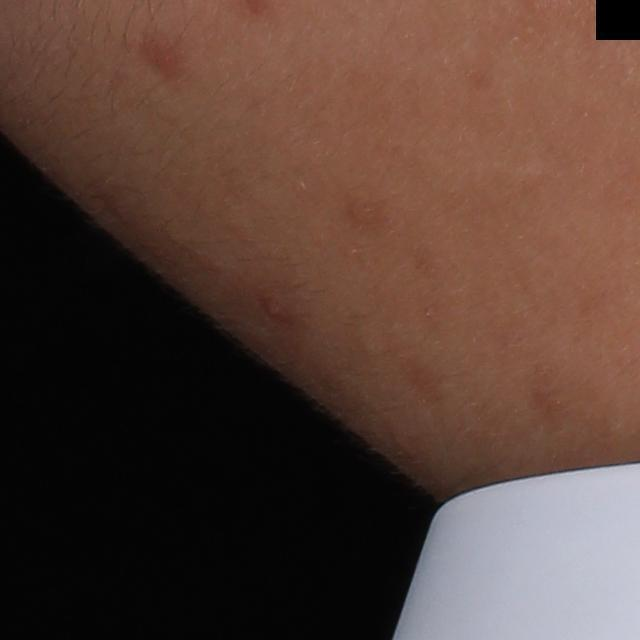papule: (261, 302, 286, 324)
